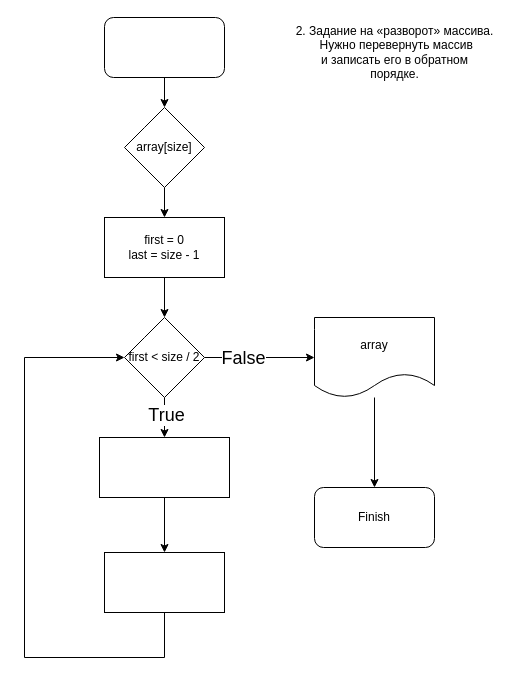
Image size: 522x683. Some labels were removed from this diagram. Each missing label, with the box of its shape:
first += 1 last -= 1: (104, 552, 224, 612)
Start: (104, 16, 224, 78)
temp = array[first] array[first] = array[last] array[last] = temp: (98, 436, 230, 498)
